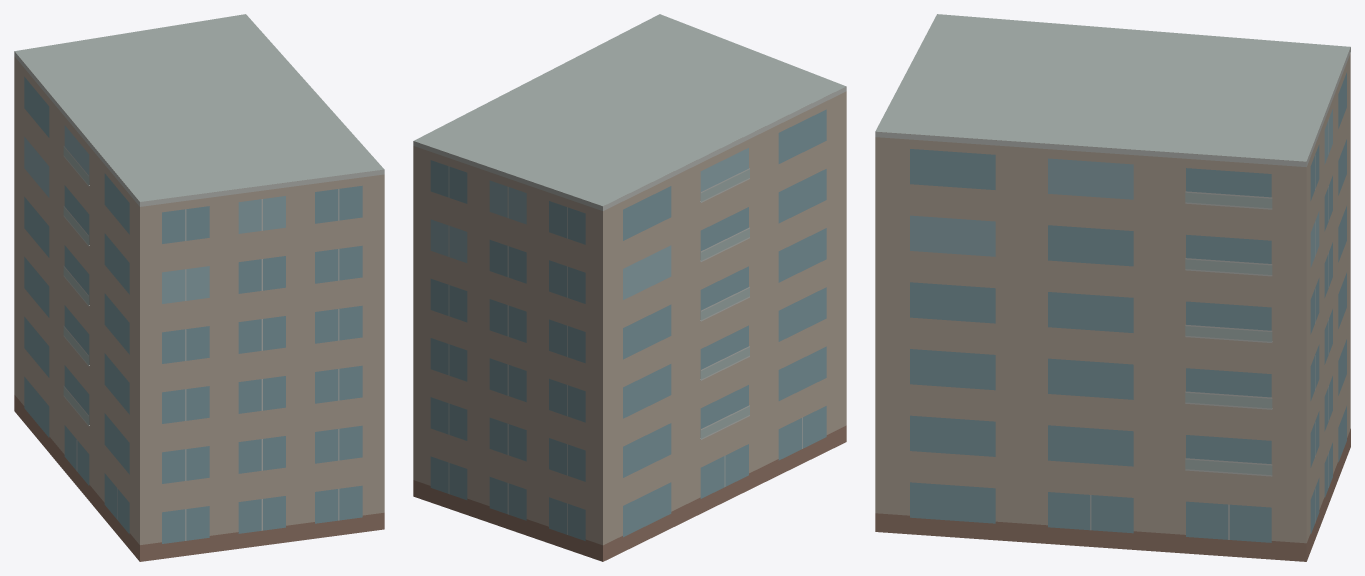
The model's file is survey-upis-32877803.glb.
The picture shows the model from 3 angles, left to right: view 1: azimuth 30°, elevation 25°; view 2: azimuth 150°, elevation 25°; view 3: azimuth 270°, elevation 25°; orthographic projection. The views are drawn at different scales.
Visible parts, largest first — view 1: survey-upis-32877803.tmp; view 2: survey-upis-32877803.tmp; view 3: survey-upis-32877803.tmp.
Part boxes in pixels (x1,y1,x2,y2): survey-upis-32877803.tmp: (14,14,384,561); survey-upis-32877803.tmp: (413,14,846,561); survey-upis-32877803.tmp: (875,14,1350,561).
Size of the model in its own units: 14.1 by 17.8 by 19.18.
